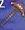pickaxe: (0, 1, 25, 30)
